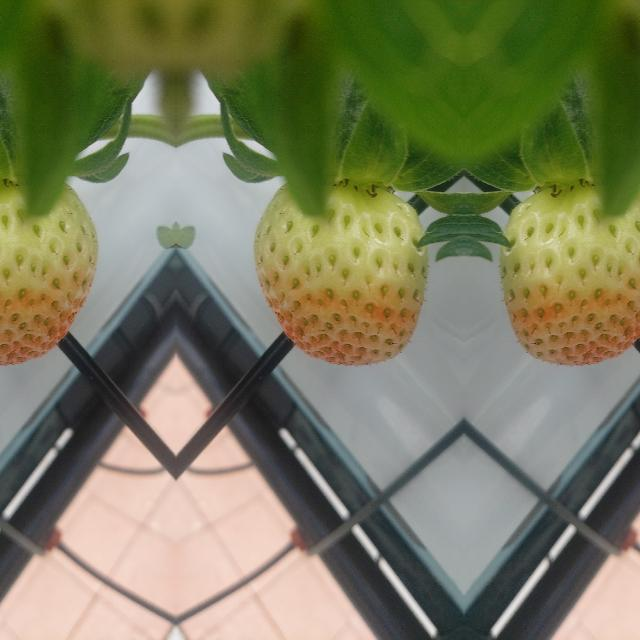Health_50: (252, 182, 426, 366), (500, 182, 640, 365), (0, 182, 97, 365)
